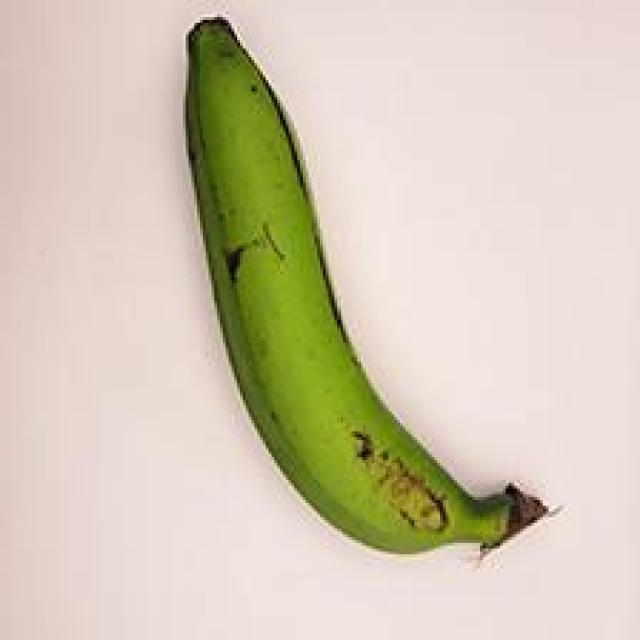Raw: (143, 7, 572, 589)
